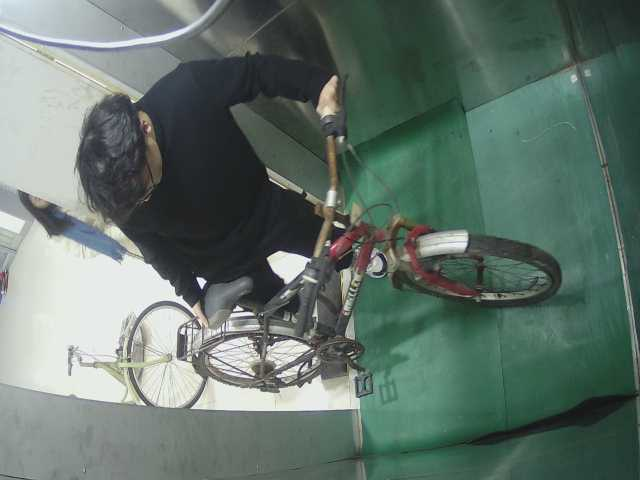bicycle: (176, 76, 564, 404), (60, 301, 216, 422)
person: (89, 54, 391, 310)
